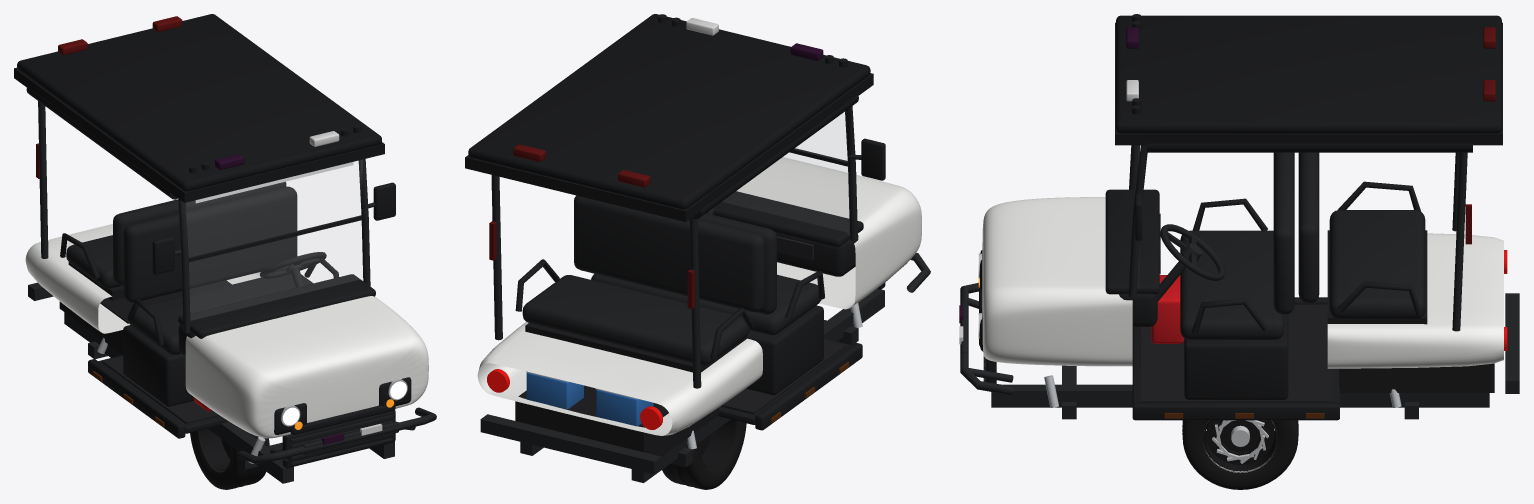
Rendered from uemr_cart.glb.
3 views of the same model, side by side, from view 1: azimuth 30°, elevation 25°; view 2: azimuth 150°, elevation 25°; view 3: azimuth 270°, elevation 25° (orthographic). The views are drawn at different scales.
Parts seen in each view (by area): view 1: Roof, Cowl, Windshield, FrontBack, DashTop, RearBody, RoofSkirt, FrontCushion, FrontSeatBase, RearBack, Rail, Grille (+22 smaller); view 2: Roof, RearBack, RearBody, Cowl, RearCushion, Windshield, RoofSkirt, BatteryBay, DashTop, FrontSeatBase, RearBumper, FrontCushion (+20 smaller); view 3: Roof, Cowl, RearBody, RearCushion, FrontCushion, FloorMat, FrontSeatBase, Rail.001, DashTop, RoofSkirt, BatteryBay, Wheel (+18 smaller).
Boxes of the visible parts, x1,y1,x2,y2 form: Roof: (17, 14, 381, 191); Cowl: (185, 296, 428, 438); Windshield: (186, 160, 362, 319); FrontBack: (123, 186, 297, 302); DashTop: (178, 274, 375, 338); RearBody: (25, 224, 260, 333); RoofSkirt: (14, 67, 384, 202); FrontCushion: (128, 273, 313, 354); FrontSeatBase: (123, 325, 193, 406); RearBack: (113, 181, 286, 284); Rail: (64, 312, 293, 483); Grille: (282, 410, 395, 468); Roof: (468, 14, 870, 209); RearBack: (574, 195, 764, 312); RearBody: (477, 322, 762, 435); Cowl: (736, 157, 921, 309); RearCushion: (522, 275, 749, 365); Windshield: (723, 112, 848, 232); RoofSkirt: (465, 73, 873, 221); BatteryBay: (515, 385, 719, 456); DashTop: (713, 191, 863, 247); FrontSeatBase: (746, 305, 823, 395); RearBumper: (480, 414, 661, 474); FrontCushion: (591, 273, 821, 335); Roof: (1116, 15, 1501, 133); Cowl: (982, 197, 1132, 366); RearBody: (1327, 233, 1503, 368); RearCushion: (1329, 210, 1425, 319); FrontCushion: (1180, 230, 1283, 339); FloorMat: (1141, 304, 1331, 402); FrontSeatBase: (1184, 314, 1288, 399); Rail.001: (991, 384, 1489, 407); DashTop: (1105, 189, 1159, 294); RoofSkirt: (1115, 22, 1502, 145); BatteryBay: (1339, 363, 1494, 392); Wheel: (1182, 420, 1298, 489).
Size of the model in its own units: 1.53 by 2.25 by 2.7.
